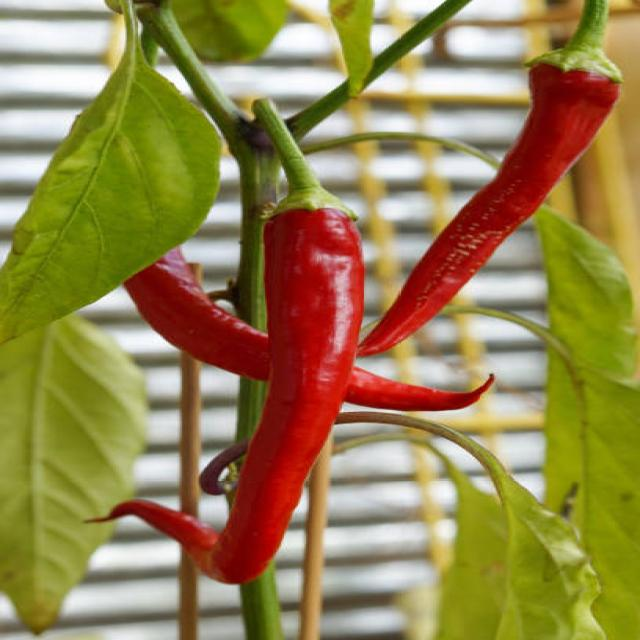Ripe: (358, 63, 618, 356), (120, 263, 502, 413), (213, 209, 362, 581), (91, 500, 218, 565)
